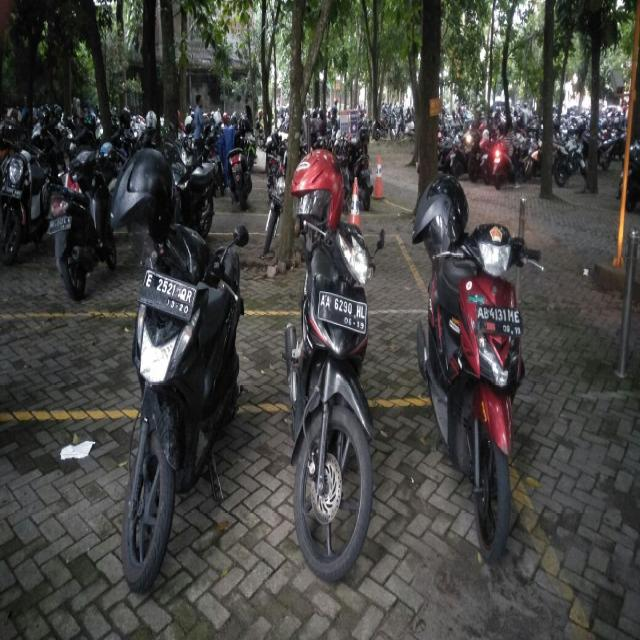plate: (140, 267, 195, 322), (317, 286, 367, 334), (475, 302, 523, 338)
